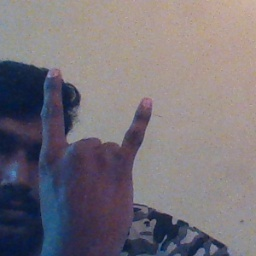V: (35, 65, 155, 253)
